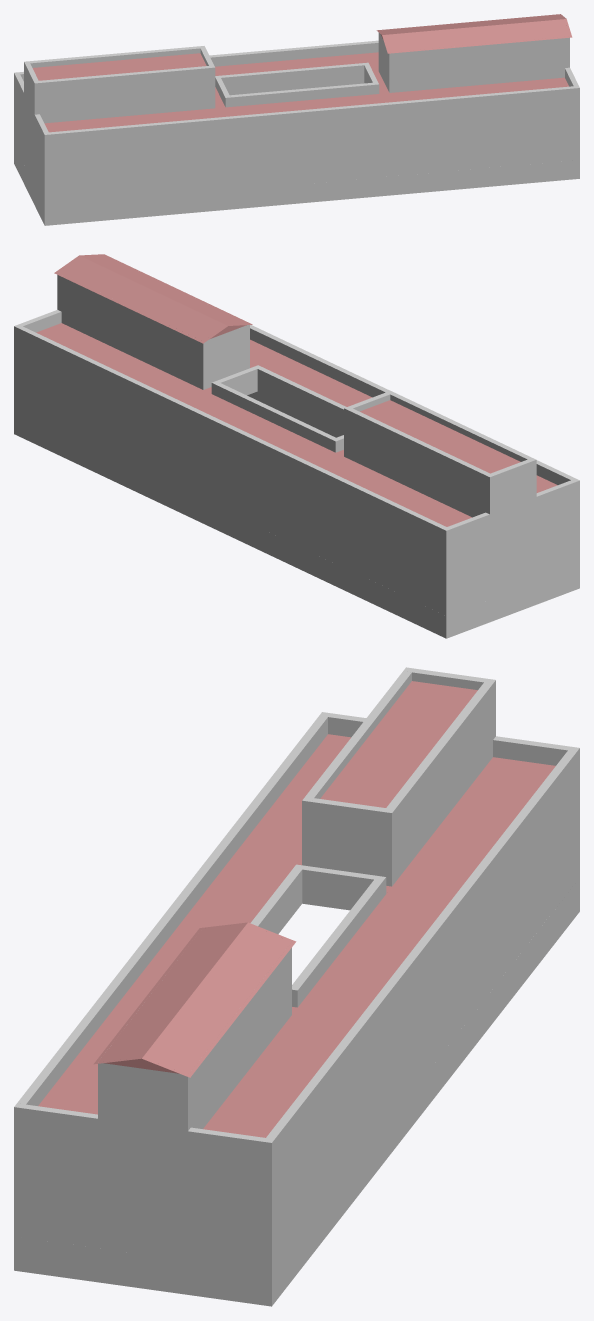
The model's file is LOD_Block_1_29.glb.
The picture shows the model from 3 angles, top to bottom: view 1: azimuth 30°, elevation 25°; view 2: azimuth 150°, elevation 25°; view 3: azimuth 270°, elevation 25°; orthographic projection. The views are drawn at different scales.
Parts seen in each view (by area): view 1: mesh_CityEngineMaterial_367; view 2: mesh_CityEngineMaterial_367; view 3: mesh_CityEngineMaterial_367.
Part boxes in pixels (<box>): mesh_CityEngineMaterial_367: <box>14,14,579,225</box>; mesh_CityEngineMaterial_367: <box>14,254,579,638</box>; mesh_CityEngineMaterial_367: <box>14,667,579,1306</box>.
Size of the model in its own units: 54.08 by 13.54 by 30.01.
